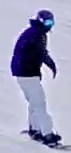snowboarder: (11, 10, 68, 151)
